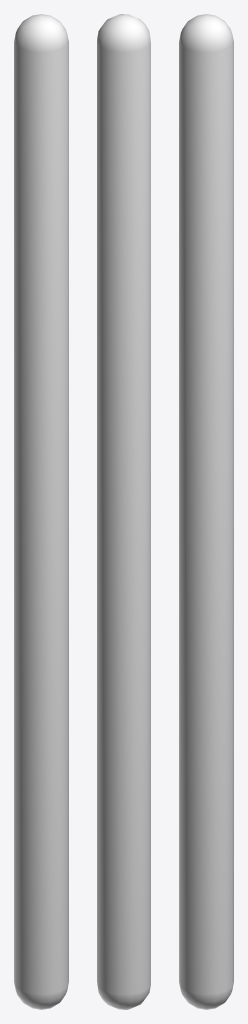
Rendered from lightsaber.glb.
The picture shows the model from 3 angles, left to right: view 1: azimuth 90°, elevation 25°; view 2: azimuth 150°, elevation 25°; view 3: azimuth 270°, elevation 25°; orthographic projection.
Parts seen in each view (by area): view 1: Roundcube; view 2: Roundcube; view 3: Roundcube.
Boxes of the visible parts, box(x1,y1,x2,y2) form: Roundcube: box(14, 14, 68, 1009); Roundcube: box(97, 14, 150, 1009); Roundcube: box(179, 14, 233, 1009).
Size of the model in its own units: 0.05 by 1 by 0.05.
1 material, 1 textured.
